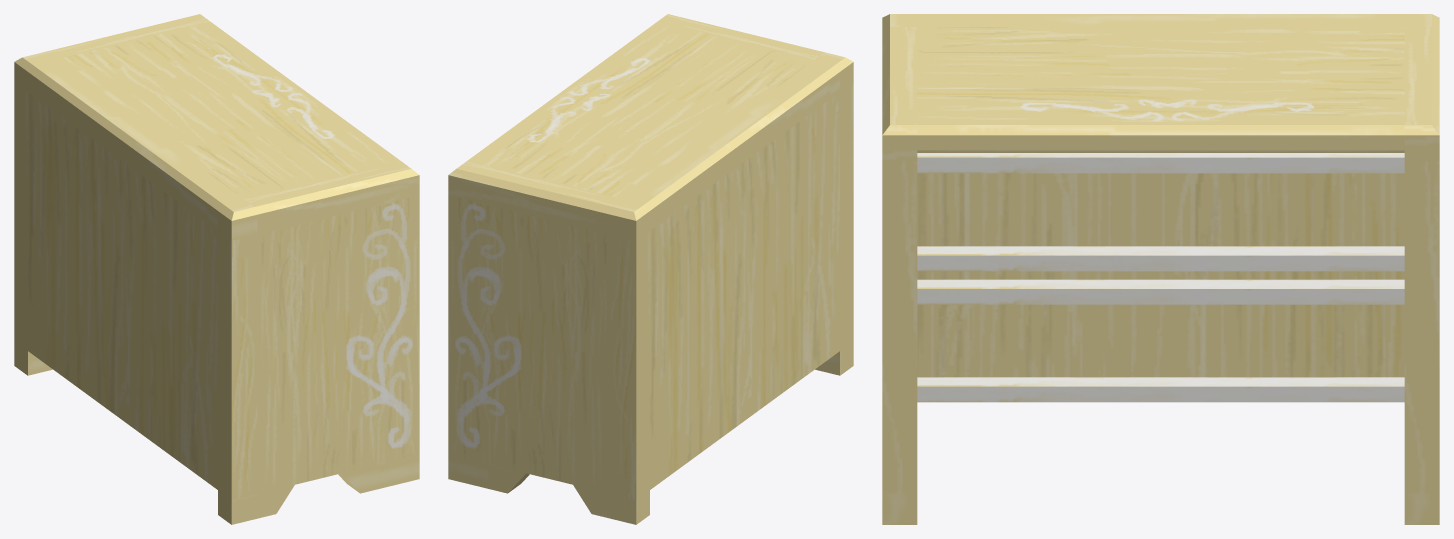
Rendered from Shoerack_Entry_01.fbx.
3 renders of one model, left to right at view 1: azimuth 30°, elevation 25°; view 2: azimuth 150°, elevation 25°; view 3: azimuth 270°, elevation 25°, orthographic. The views are drawn at different scales.
Visible parts, largest first — view 1: Shoerack_Entry_01; view 2: Shoerack_Entry_01; view 3: Shoerack_Entry_01, Rack_02, Rack_03, Rack_04, Rack_01.
Boxes of the visible parts, box(x1,y1,x2,y2) form: Shoerack_Entry_01: box(14, 14, 419, 524); Shoerack_Entry_01: box(448, 14, 853, 524); Shoerack_Entry_01: box(882, 14, 1439, 524); Rack_02: box(917, 246, 1404, 271); Rack_03: box(917, 377, 1404, 402); Rack_04: box(917, 279, 1404, 304); Rack_01: box(917, 153, 1404, 173).
Size of the model in its own units: 0.4353 by 0.6845 by 0.8717.
